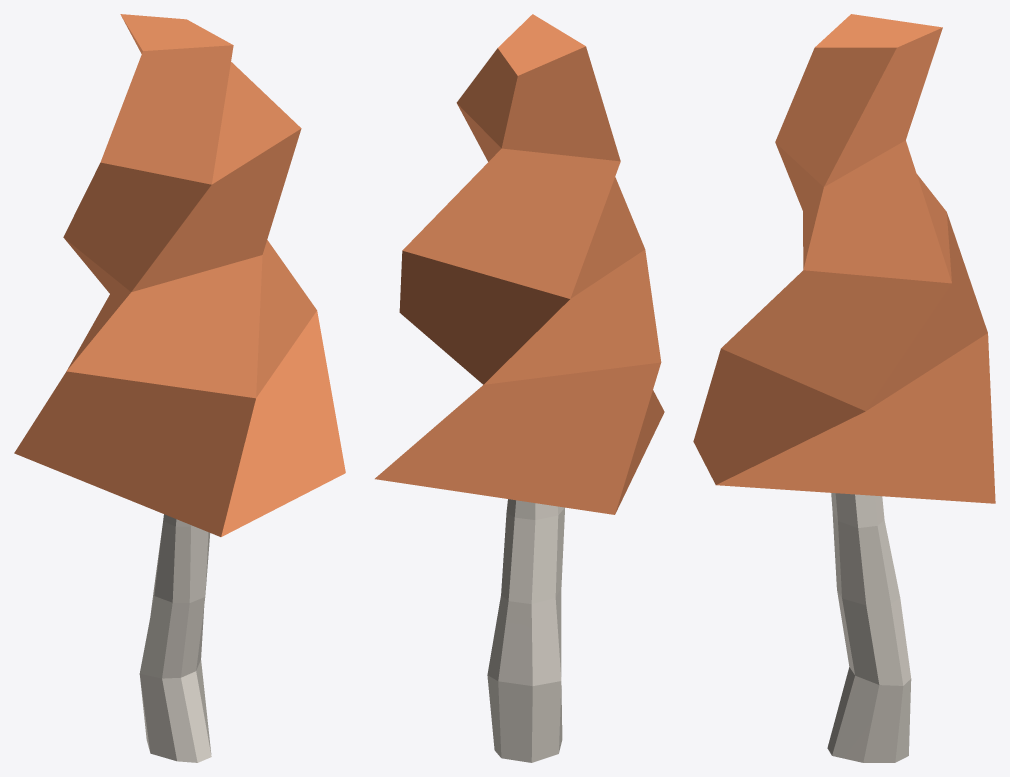
The model's file is Tree_orange.FBX.
3 renders of one model, left to right at view 1: azimuth 30°, elevation 25°; view 2: azimuth 150°, elevation 25°; view 3: azimuth 270°, elevation 25°, orthographic.
Parts seen in each view (by area): view 1: orange; view 2: orange; view 3: orange.
Part boxes in pixels (x1,y1,x2,y2): orange: (14, 14, 345, 762); orange: (375, 14, 664, 762); orange: (693, 14, 995, 762).
Bounding box in the file's own units: 66.58 × 175 × 66.88.
